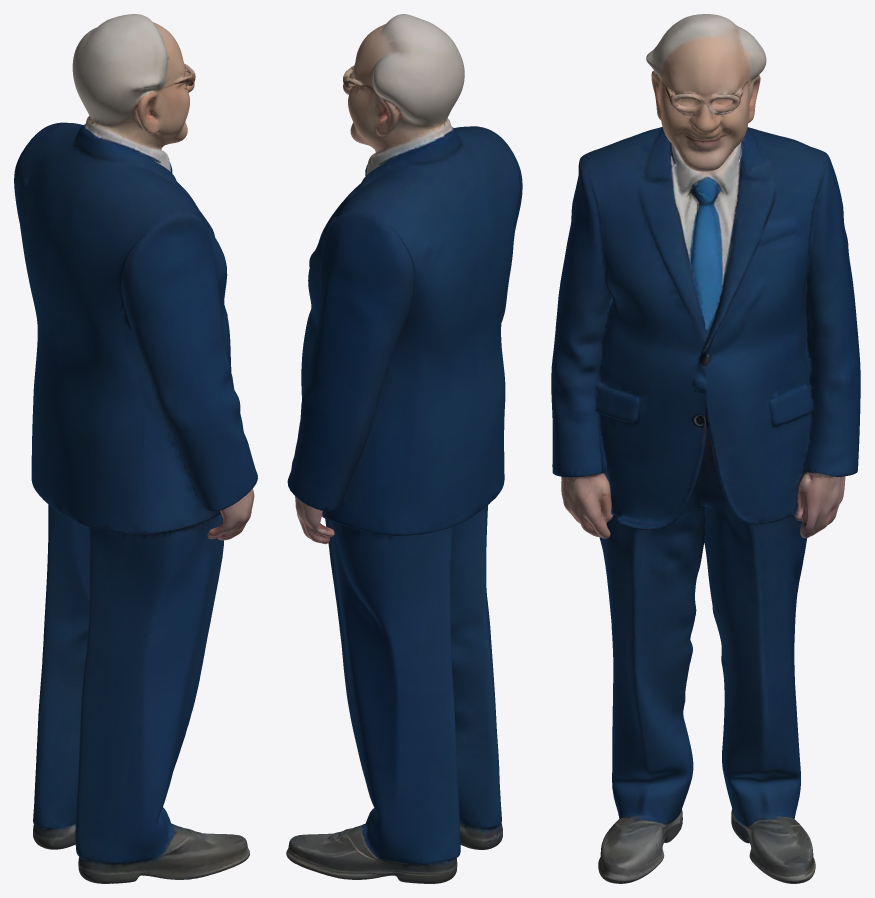
Rendered from warren-buffett.glb.
The picture shows the model from 3 angles, left to right: view 1: azimuth 30°, elevation 25°; view 2: azimuth 150°, elevation 25°; view 3: azimuth 270°, elevation 25°; orthographic projection.
Visible parts, largest first — view 1: tripo_node_19337d0d-d2e5-40cd-8824-4d1d4511b5cb; view 2: tripo_node_19337d0d-d2e5-40cd-8824-4d1d4511b5cb; view 3: tripo_node_19337d0d-d2e5-40cd-8824-4d1d4511b5cb.
Boxes of the visible parts, box(x1,y1,x2,y2) form: tripo_node_19337d0d-d2e5-40cd-8824-4d1d4511b5cb: box(14, 14, 257, 883); tripo_node_19337d0d-d2e5-40cd-8824-4d1d4511b5cb: box(286, 14, 522, 883); tripo_node_19337d0d-d2e5-40cd-8824-4d1d4511b5cb: box(551, 14, 860, 883).
Size of the model in its own units: 0.2197 by 1 by 0.3349.
Materials: 1 (1 with a texture image).
